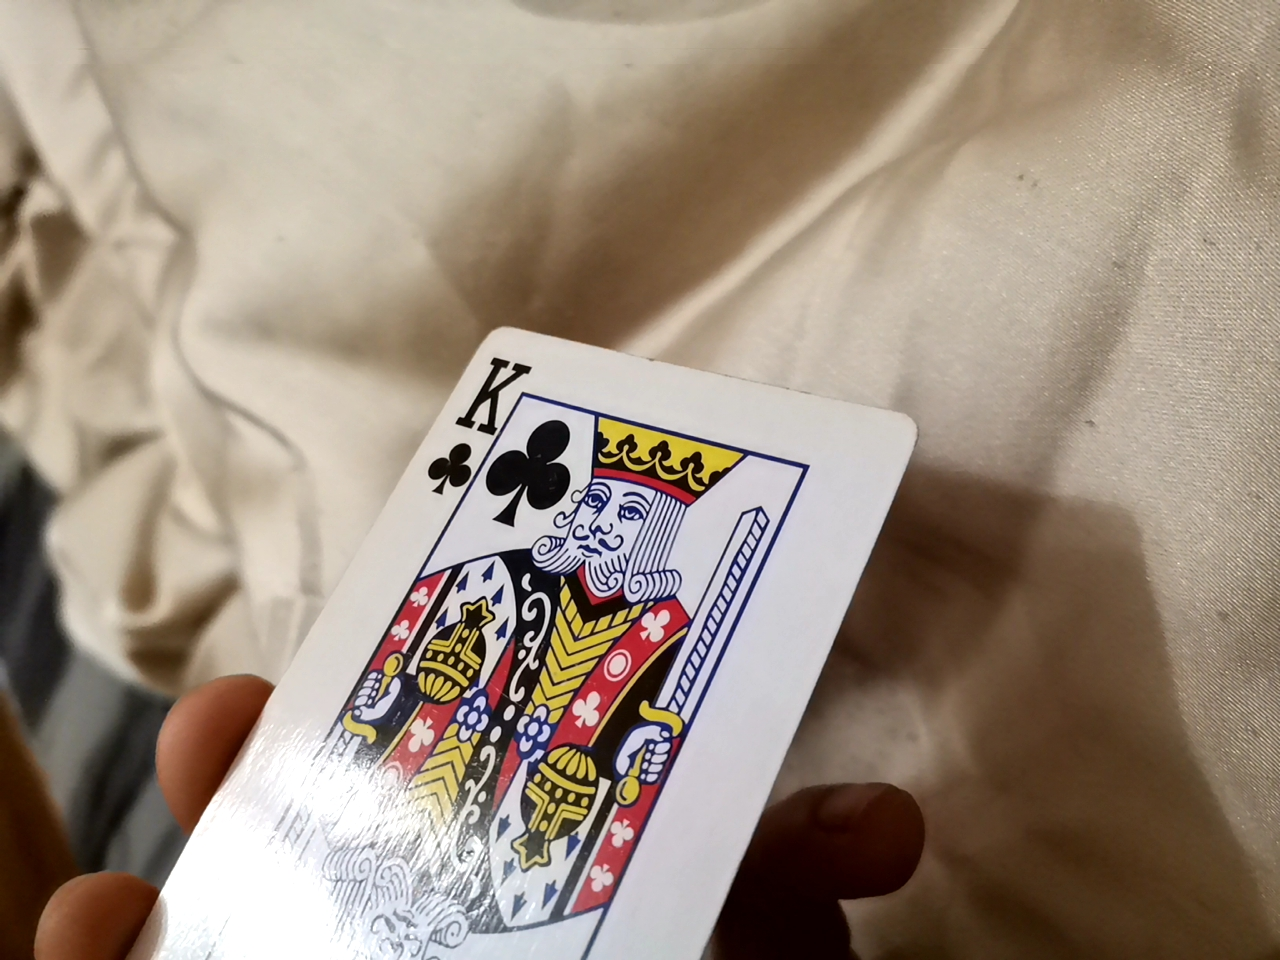mh k: (167, 320, 912, 960)
